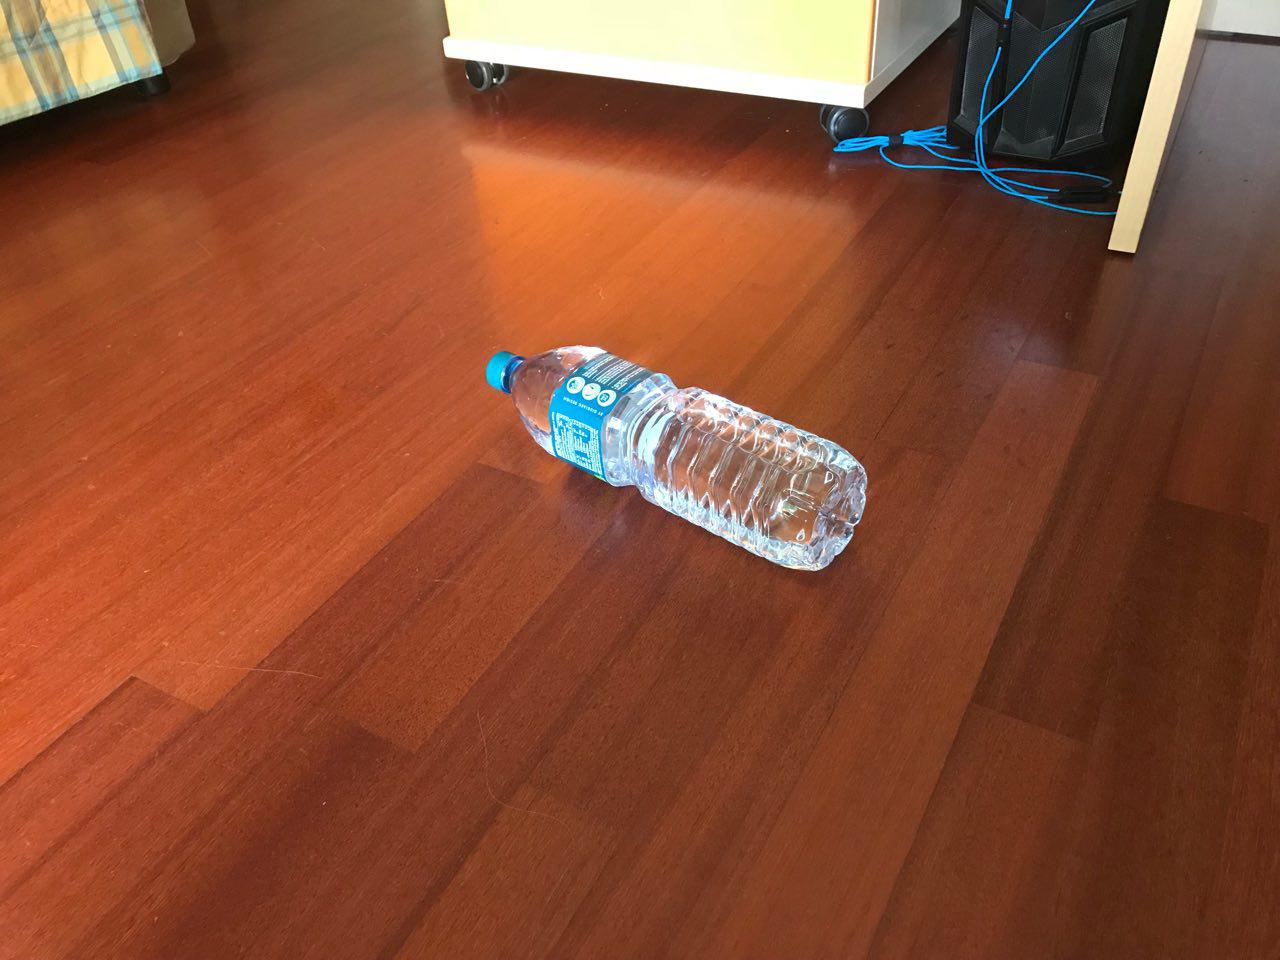san_bernardo: (483, 343, 869, 574)
